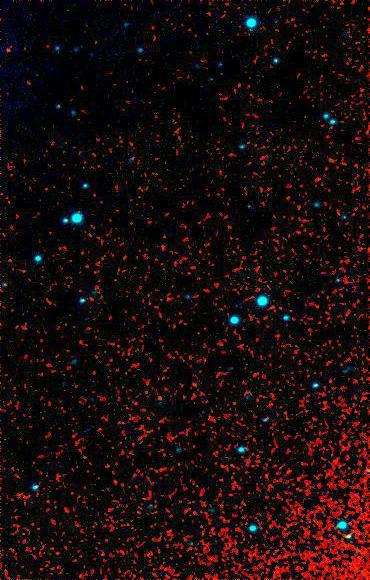star: (144, 383, 174, 413)
